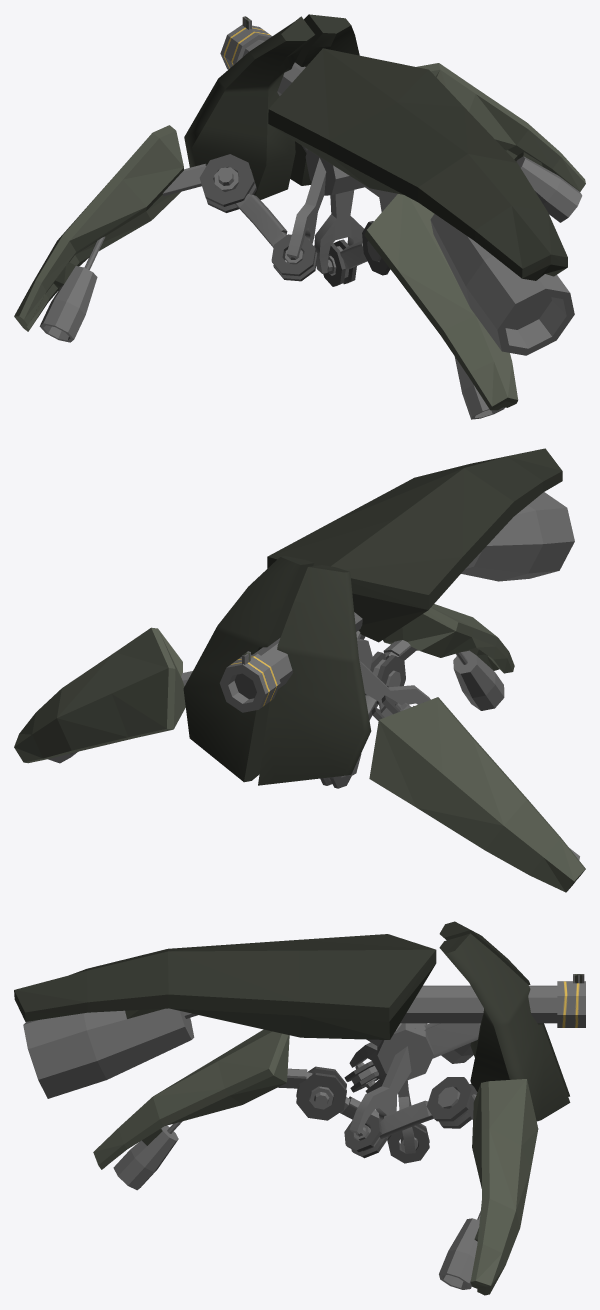
The model's file is FUBAR_DRONE_V01.fbx.
3 renders of one model, top to bottom at view 1: azimuth 30°, elevation 25°; view 2: azimuth 150°, elevation 25°; view 3: azimuth 270°, elevation 25°, orthographic. The views are drawn at different scales.
Parts seen in each view (by area): view 1: pCylinder6, Thruster (×2), CupcakeDrone_Mesh_v0010:Legs_CupcakeDrone_Mesh_v0010:Leg1_Cu (×2), polySurface9, polySurface6, polySurface11, CupcakeDrone_Mesh_v0010:pCube3, pCube6, pCube4, pCylinder9; view 2: Thruster (×2), pCylinder6, polySurface9, polySurface11, CupcakeDrone_Mesh_v0010:Legs_CupcakeDrone_Mesh_v0010:Leg1_Cu (×2), pCube6, pCube4; view 3: pCylinder6, CupcakeDrone_Mesh_v0010:Legs_CupcakeDrone_Mesh_v0010:Leg1_Cu (×2), Thruster, polySurface11, pCube6, polySurface6 (×2), pCube3, pCylinder9, polySurface10, polySurface9, pCube4, CupcakeDrone_Mesh_v0010:pCube3.
Part boxes in pixels (<box>): pCylinder6: <box>268,48,574,355</box>; Thruster (×2): <box>14,63,585,342</box>; CupcakeDrone_Mesh_v0010:Legs_CupcakeDrone_Mesh_v0010:Leg1_Cu (×2): <box>323,194,518,419</box>; polySurface9: <box>184,16,314,199</box>; polySurface6: <box>199,154,317,281</box>; polySurface11: <box>290,14,359,185</box>; CupcakeDrone_Mesh_v0010:pCube3: <box>314,190,363,273</box>; pCube6: <box>220,16,305,95</box>; pCube4: <box>286,158,326,258</box>; pCylinder9: <box>305,149,366,195</box>; Thruster (×2): <box>14,627,585,892</box>; pCylinder6: <box>267,448,574,642</box>; polySurface9: <box>258,565,371,785</box>; polySurface11: <box>183,556,314,782</box>; CupcakeDrone_Mesh_v0010:Legs_CupcakeDrone_Mesh_v0010:Leg1_Cu (×2): <box>320,604,514,788</box>; pCube6: <box>219,612,362,712</box>; pCube4: <box>359,661,430,710</box>; pCylinder6: <box>14,934,436,1098</box>; CupcakeDrone_Mesh_v0010:Legs_CupcakeDrone_Mesh_v0010:Leg1_Cu (×2): <box>93,1029,429,1190</box>; Thruster: <box>439,1079,538,1295</box>; polySurface11: <box>439,933,570,1121</box>; pCube6: <box>400,974,585,1027</box>; polySurface6 (×2): <box>344,1061,477,1158</box>; pCube3: <box>349,1028,415,1133</box>; pCylinder9: <box>377,1023,433,1080</box>; polySurface10: <box>424,1023,480,1058</box>; polySurface9: <box>439,921,569,1096</box>; pCube4: <box>349,1042,386,1093</box>; CupcakeDrone_Mesh_v0010:pCube3: <box>398,1080,415,1153</box>.
Bounding box in the file's own units: 186 × 86.2 × 174.
